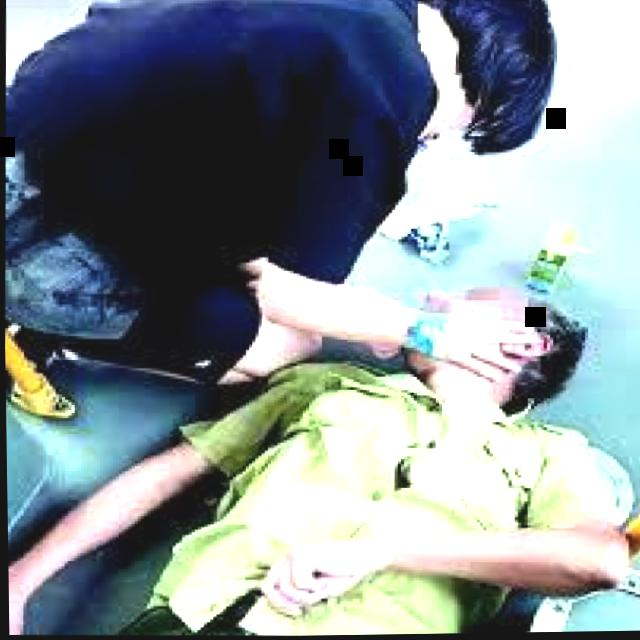Fall-Detected: (3, 243, 640, 640)
